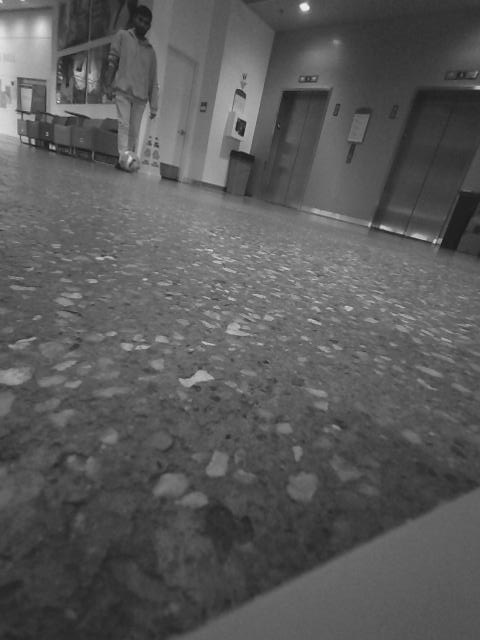ball: (291, 309, 372, 390)
